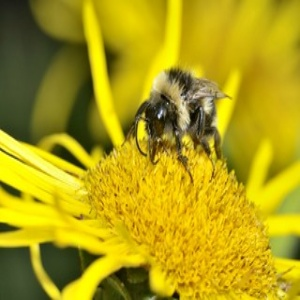bee: (127, 66, 235, 186)
